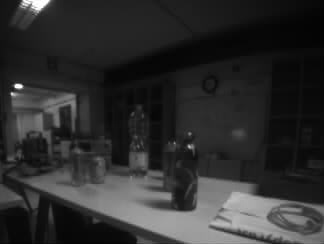Bottle: (173, 131, 198, 212), (129, 105, 149, 177)
Tin can: (71, 148, 87, 186), (90, 156, 105, 181)
